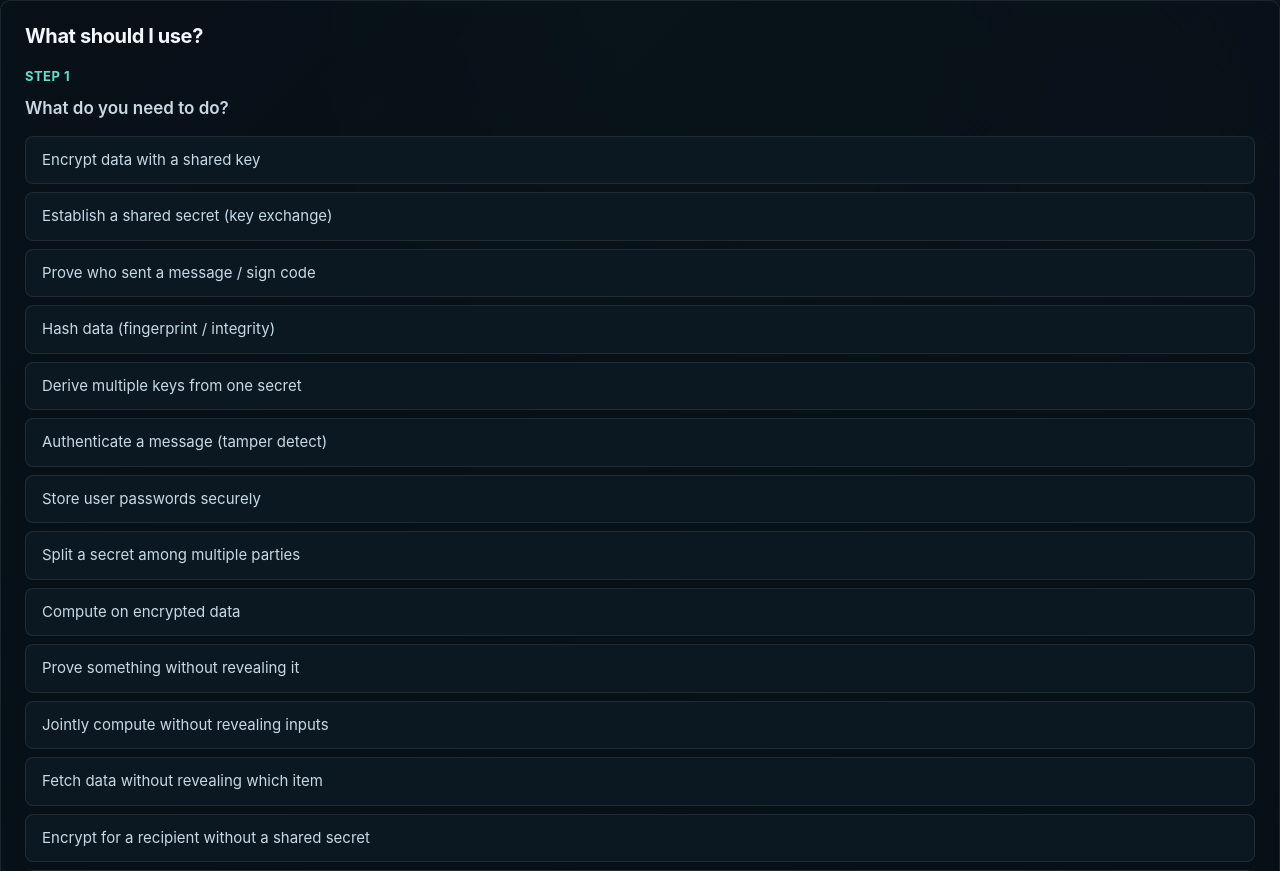
Test case: Decision Flowchart Paths › navigating symmetric → hardware AES recommends AES-256-GCM
Click the button "Encrypt data with a shared key". click: (151, 159)
box: left=25, top=136, right=1255, bottom=184
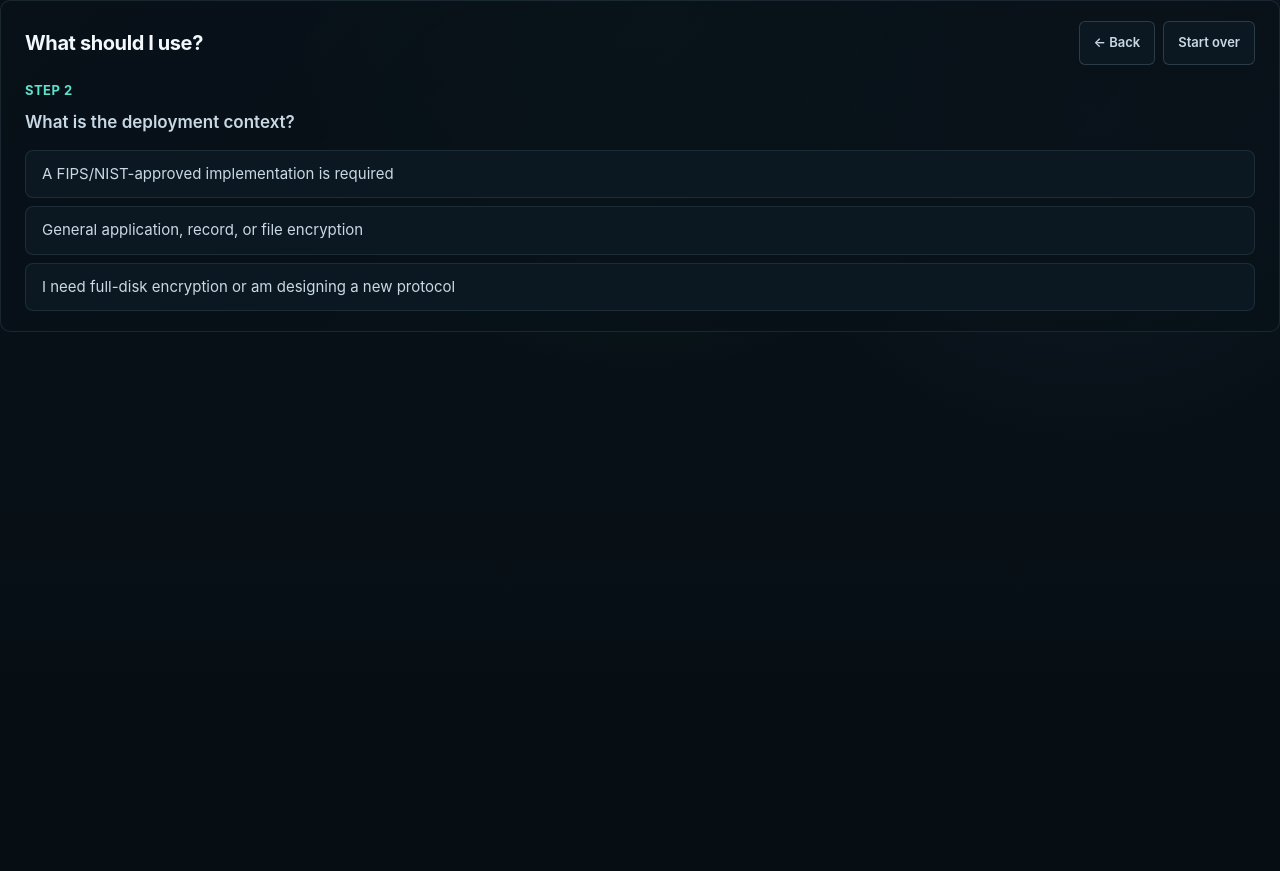
Click the button "General application, record, or file encryption". click: (203, 230)
box: left=25, top=206, right=1255, bottom=255
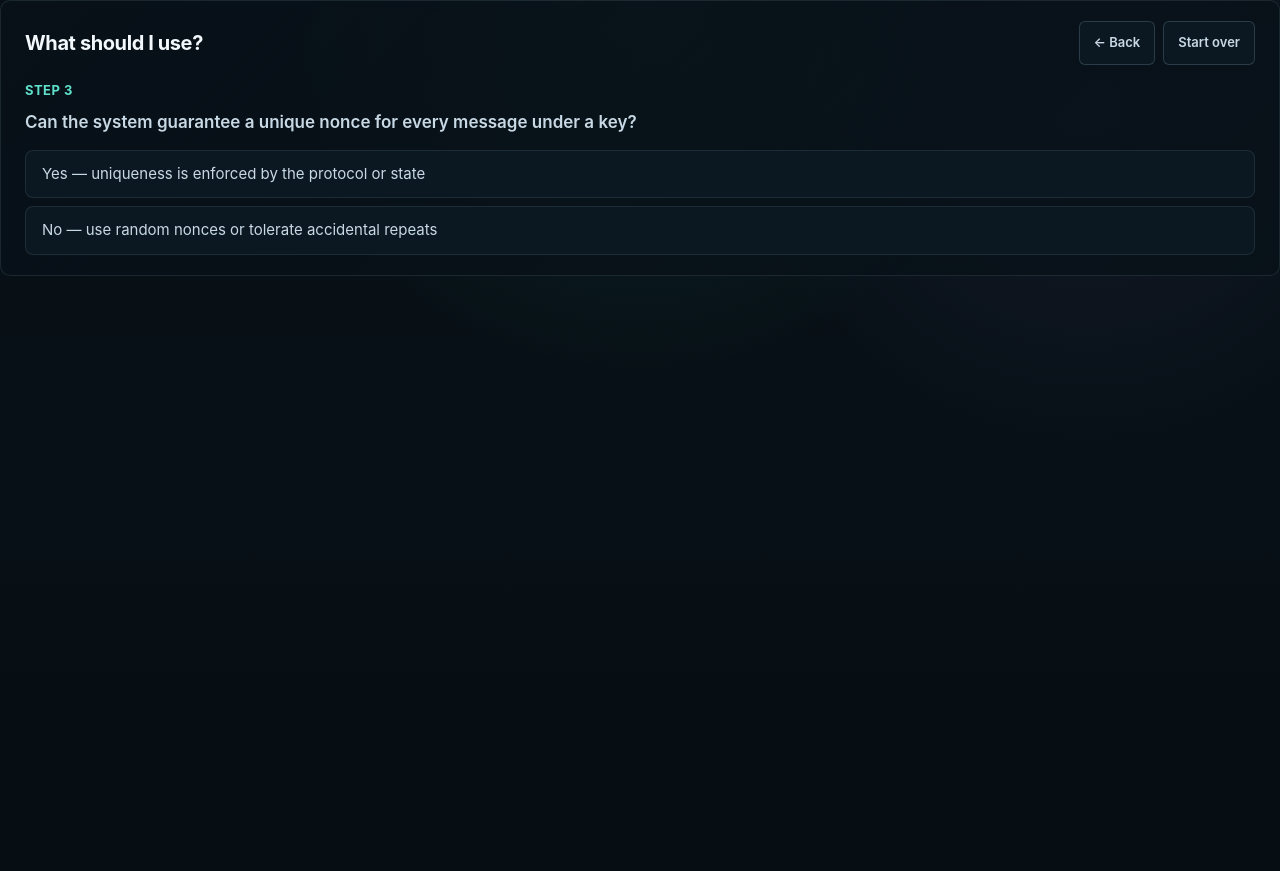
Click the button "Yes — uniqueness is enforced by the protocol or state". click: (234, 173)
box: left=25, top=150, right=1255, bottom=198
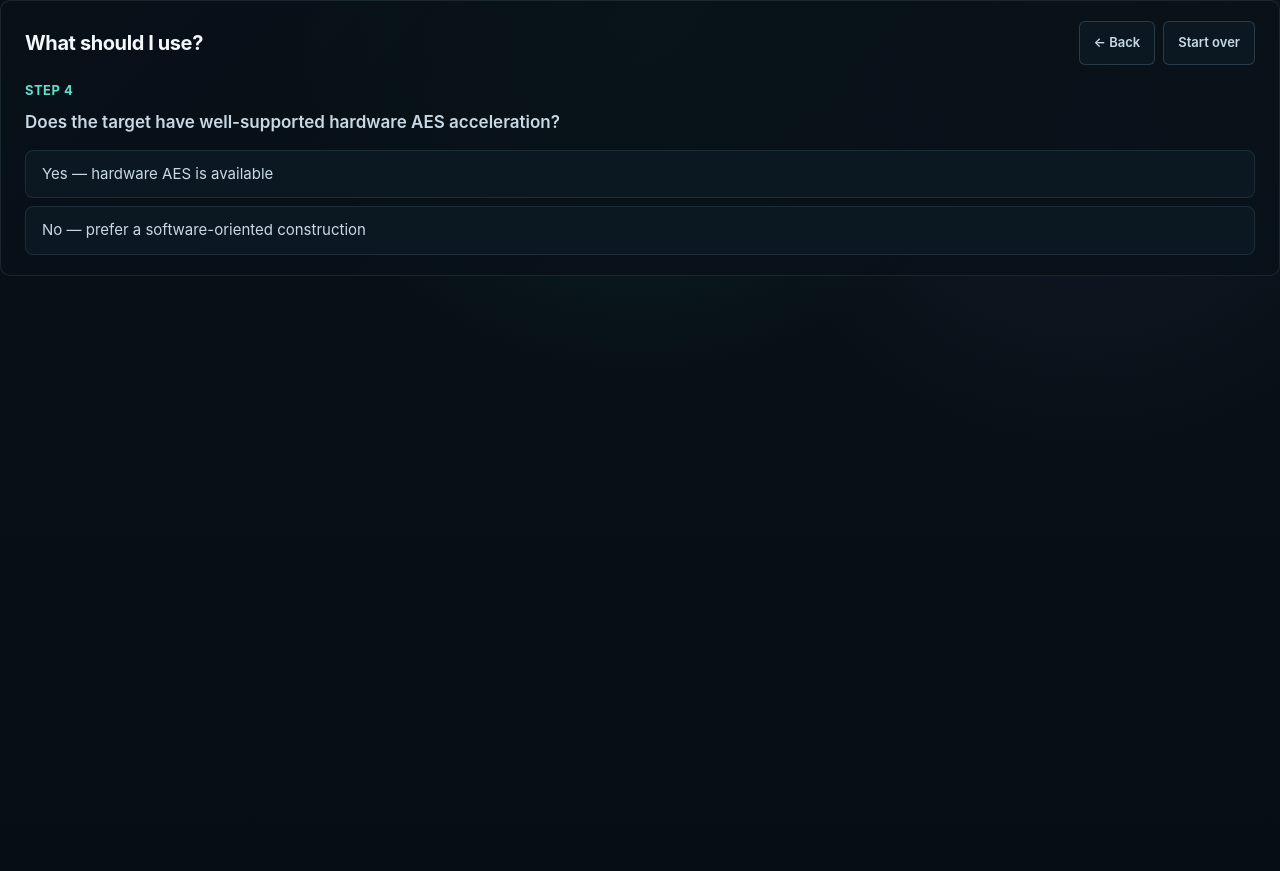
Click the button "Yes — hardware AES is available". click: (158, 173)
box: left=25, top=150, right=1255, bottom=198
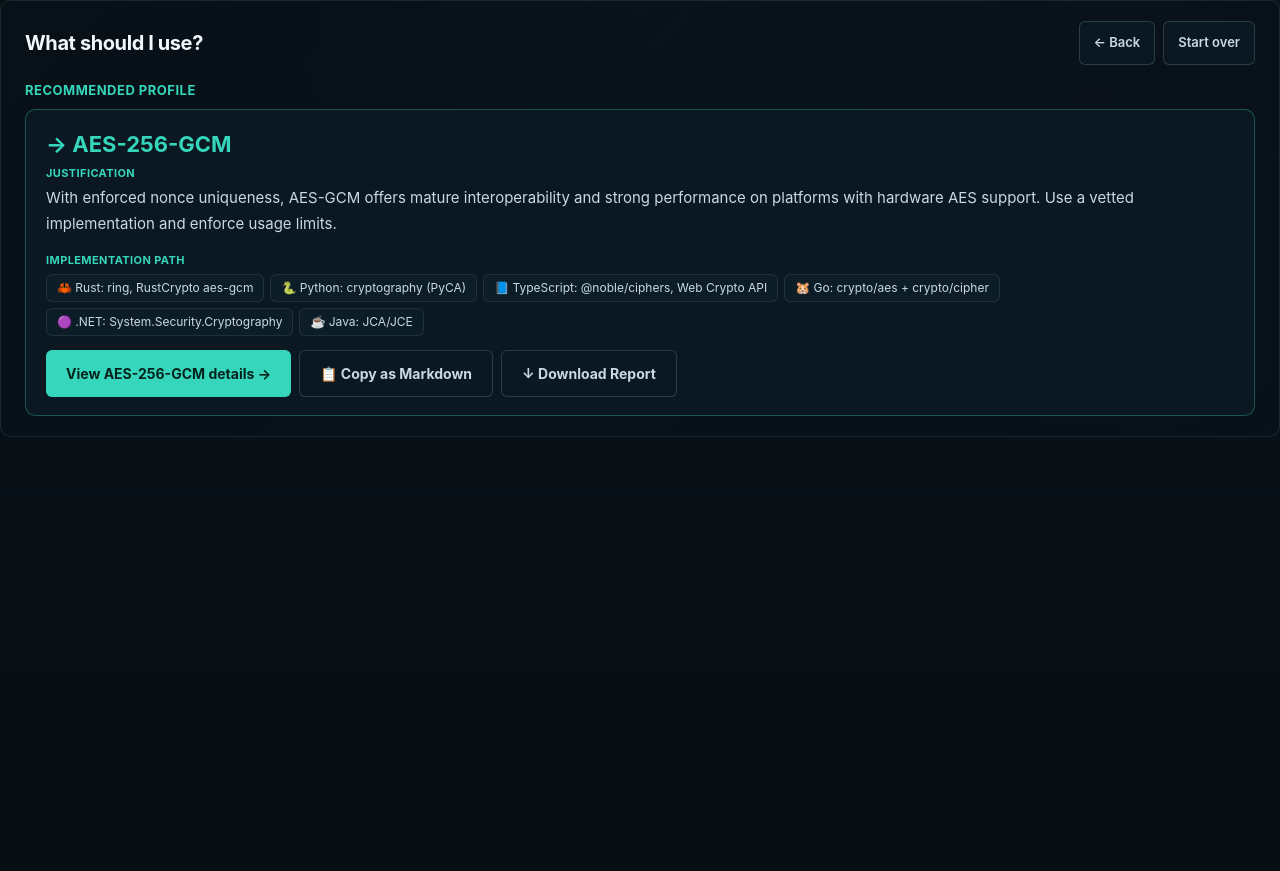
Check: the text "→ AES-256-GCM" is shown, box left=46, top=130, right=232, bottom=156
